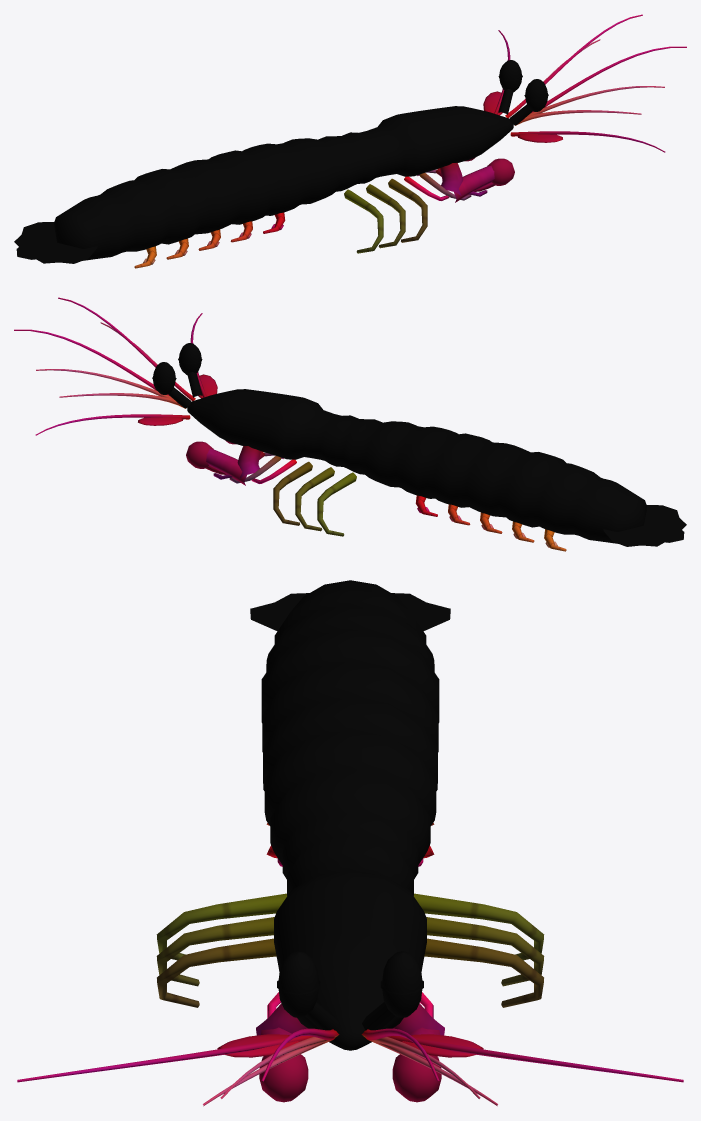
Rendered from mantis_shrimp.glb.
The picture shows the model from 3 angles, top to bottom: view 1: azimuth 30°, elevation 25°; view 2: azimuth 150°, elevation 25°; view 3: azimuth 270°, elevation 25°; orthographic projection. The views are drawn at different scales.
Visible parts, largest first — view 1: Body, Legs, Antennae, Claws, Eyes; view 2: Body, Legs, Antennae, Claws, Eyes; view 3: Body, Legs, Antennae, Eyes, Claws.
Boxes of the visible parts, bbox=[...] form: Body: bbox=[14, 106, 513, 263]; Legs: bbox=[134, 168, 487, 268]; Antennae: bbox=[483, 14, 686, 152]; Claws: bbox=[417, 157, 514, 202]; Eyes: bbox=[498, 60, 548, 125]; Body: bbox=[187, 389, 686, 546]; Legs: bbox=[213, 451, 566, 551]; Antennae: bbox=[14, 297, 217, 435]; Claws: bbox=[186, 440, 283, 485]; Eyes: bbox=[152, 343, 202, 408]; Body: bbox=[250, 580, 450, 1050]; Legs: bbox=[156, 823, 544, 1018]; Antennae: bbox=[17, 1028, 683, 1106]; Eyes: bbox=[277, 951, 423, 1030]; Claws: bbox=[256, 1003, 444, 1102].
Bounding box in the file's own units: 1.31 × 0.2185 × 0.5859.
3 materials, 1 textured.
